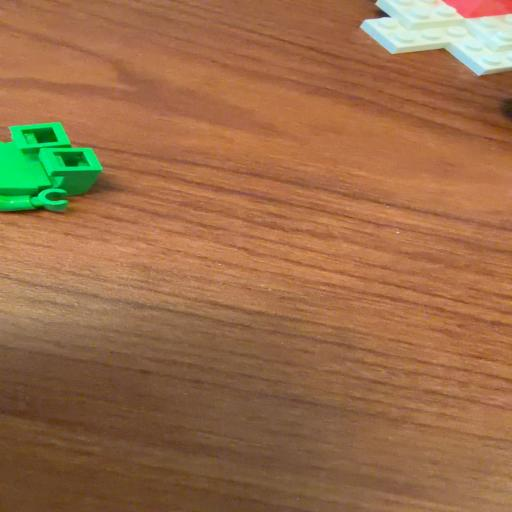UnoQ-minifig-detector: (0, 122, 102, 214)
